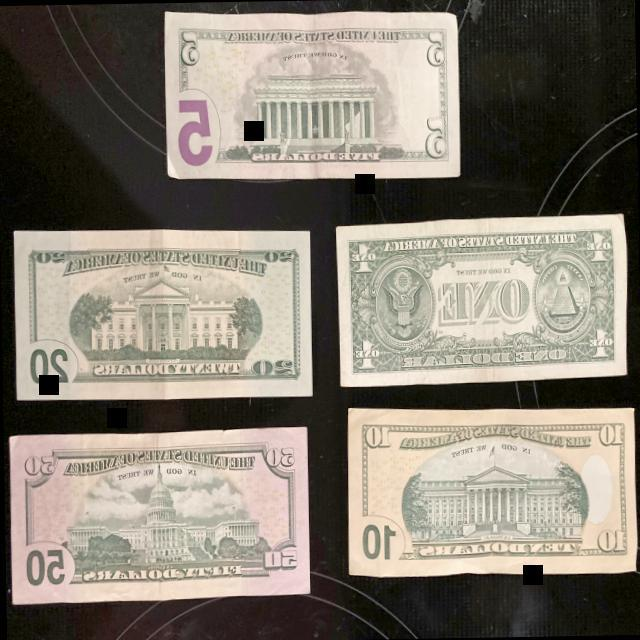fifty: (8, 424, 310, 606)
five: (162, 6, 460, 184)
one: (336, 213, 626, 388)
ten: (342, 404, 637, 576)
twenty: (12, 224, 314, 403)
